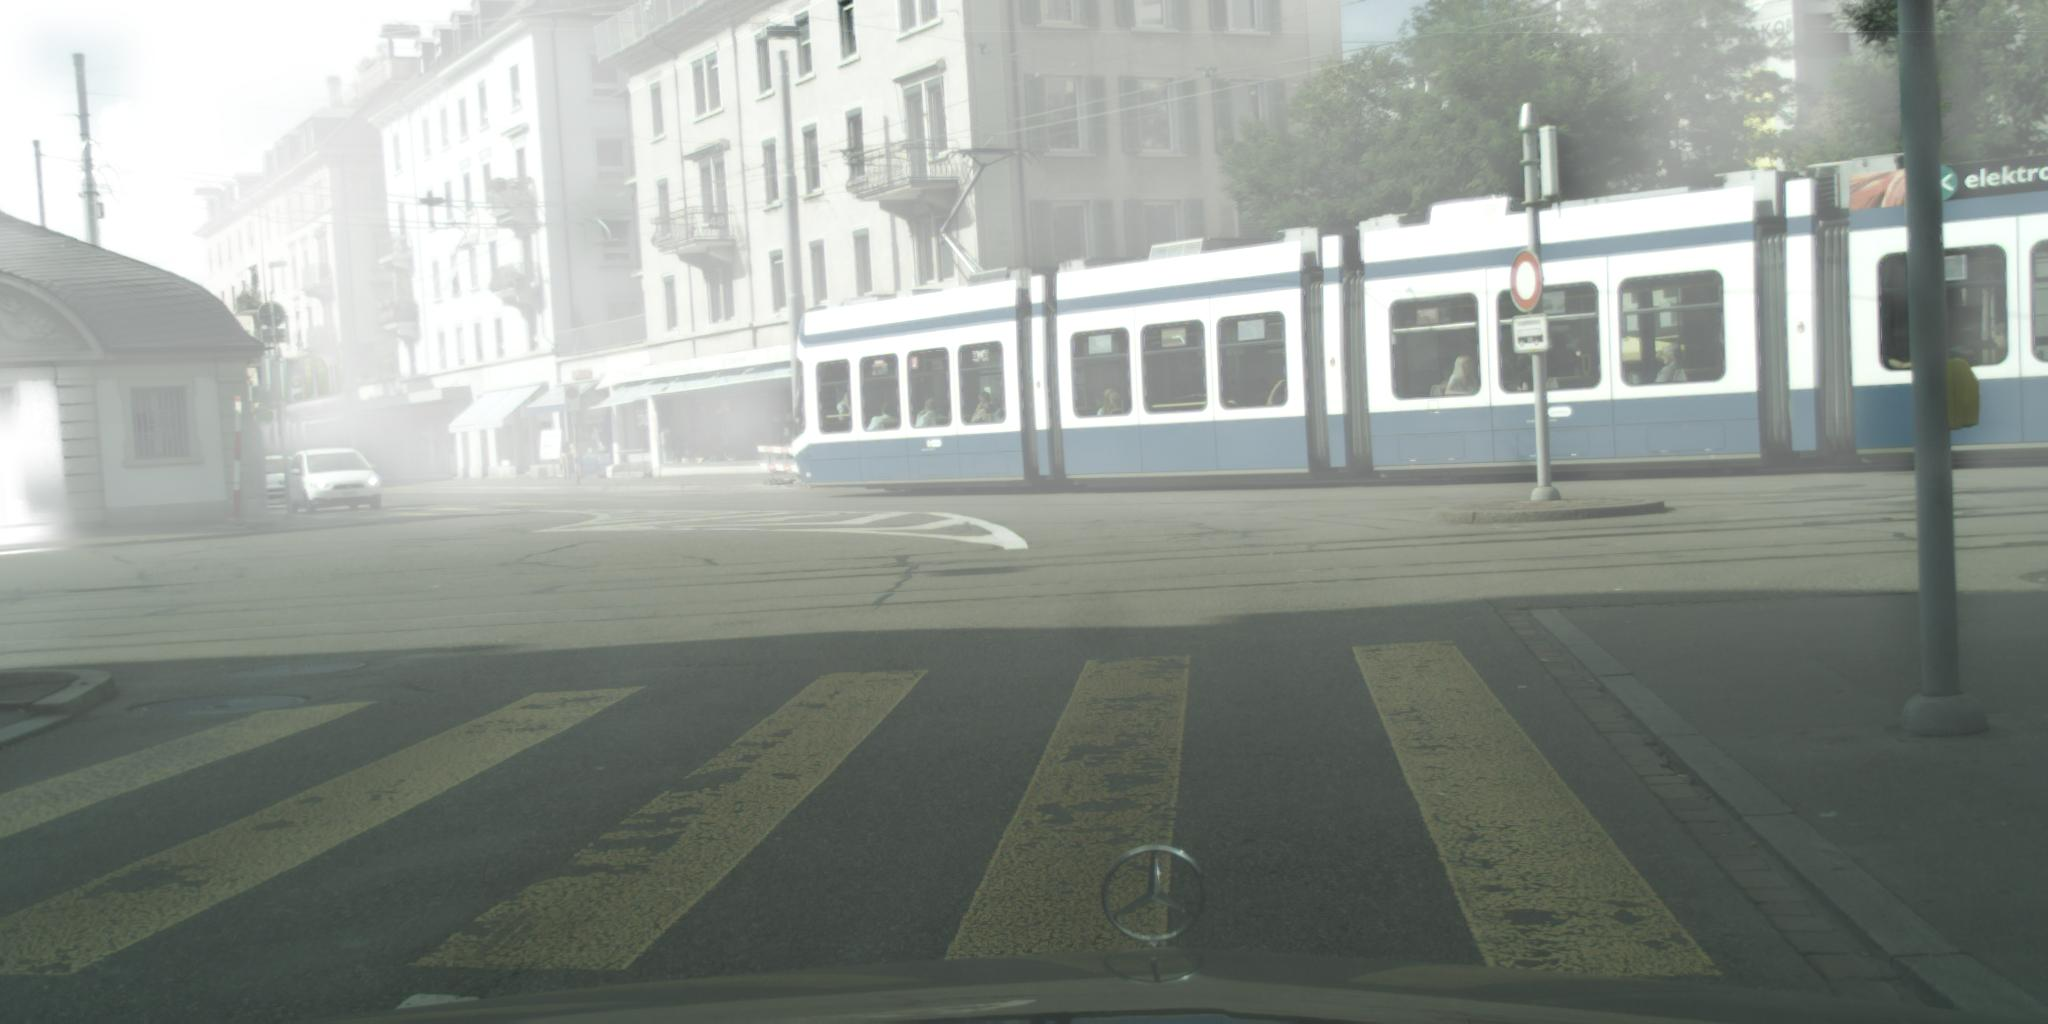car: (287, 448, 383, 517), (246, 455, 307, 508)
train: (793, 149, 2048, 492)
